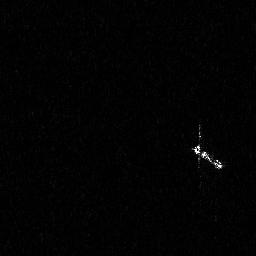ship: (187, 120, 227, 173)
